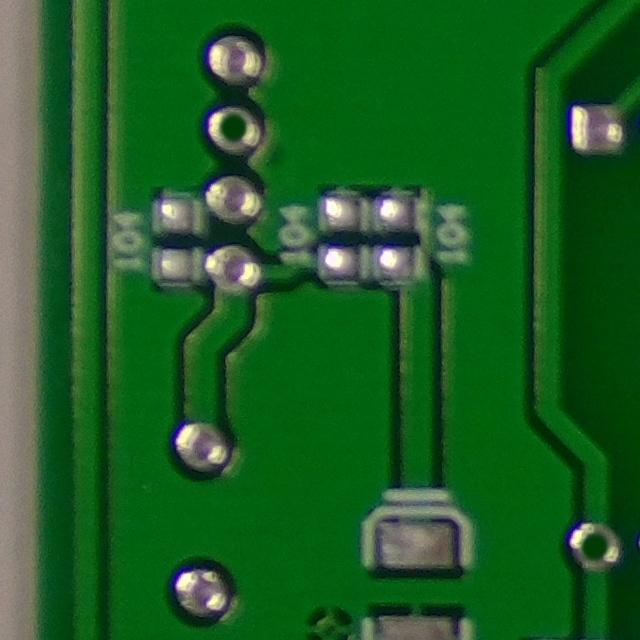missing_hole: (199, 98, 276, 164), (563, 518, 630, 578)
